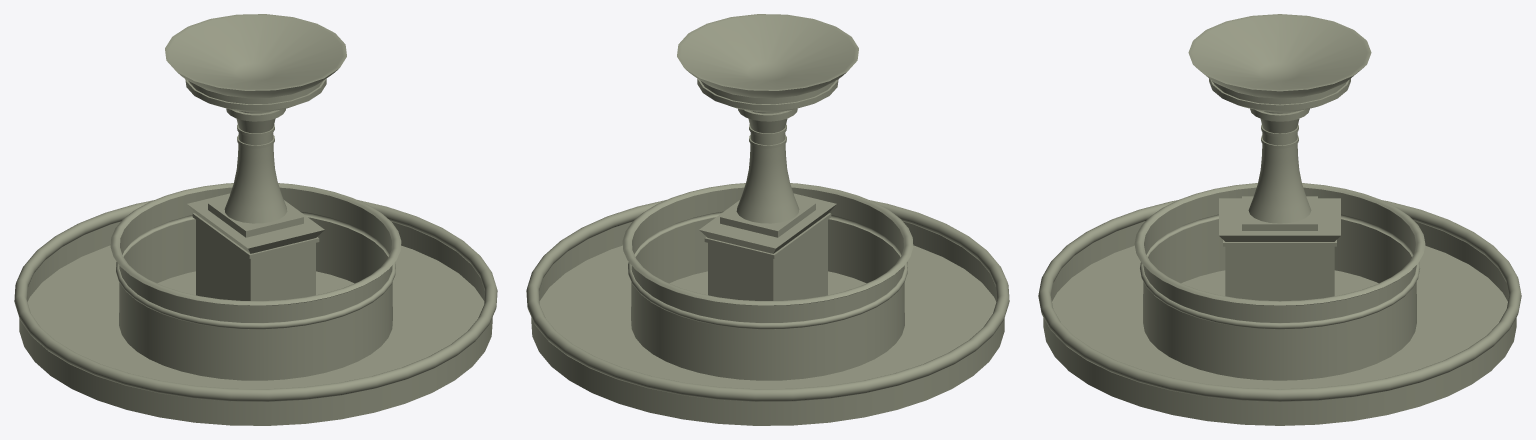
The model's file is Fountain.fbx.
3 renders of one model, left to right at view 1: azimuth 30°, elevation 25°; view 2: azimuth 150°, elevation 25°; view 3: azimuth 270°, elevation 25°, orthographic.
Parts seen in each view (by area): view 1: Fountain; view 2: Fountain; view 3: Fountain.
Part boxes in pixels (x1,y1,x2,y2): Fountain: (14, 14, 497, 425); Fountain: (526, 14, 1009, 425); Fountain: (1038, 14, 1521, 425).
Bounding box in the file's own units: 36.94 × 23.03 × 36.94.
1 material, 1 textured.
